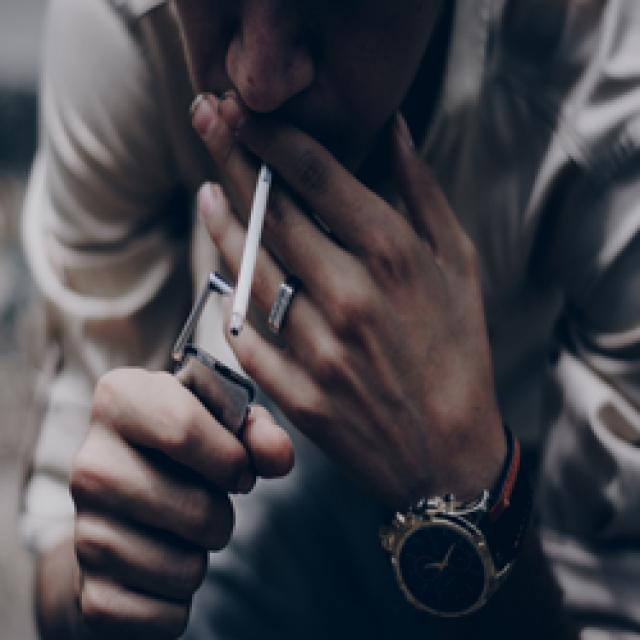Smooking: (222, 154, 290, 339)
